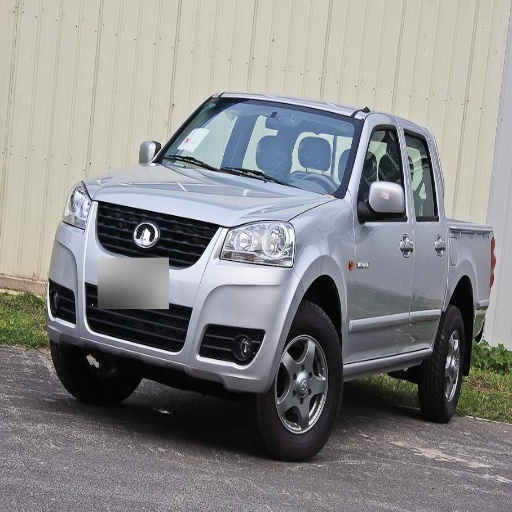front_bumper: (47, 199, 302, 390)
front_glass: (150, 98, 362, 196)
front_left_door: (352, 120, 414, 359)
trunk: (448, 221, 496, 306)
